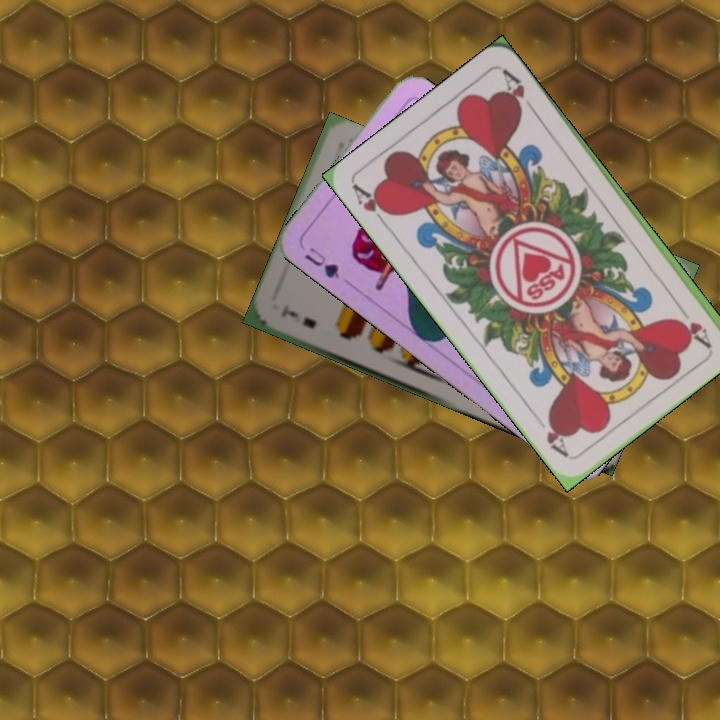E7: (277, 302, 319, 332)
GU: (300, 243, 342, 281)
HA: (349, 180, 395, 231), (672, 298, 714, 350)
